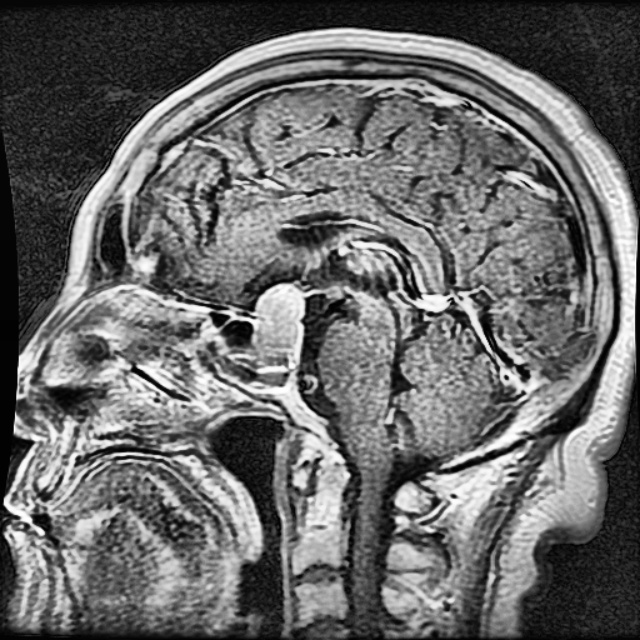Pituitary: (253, 284, 303, 358)
